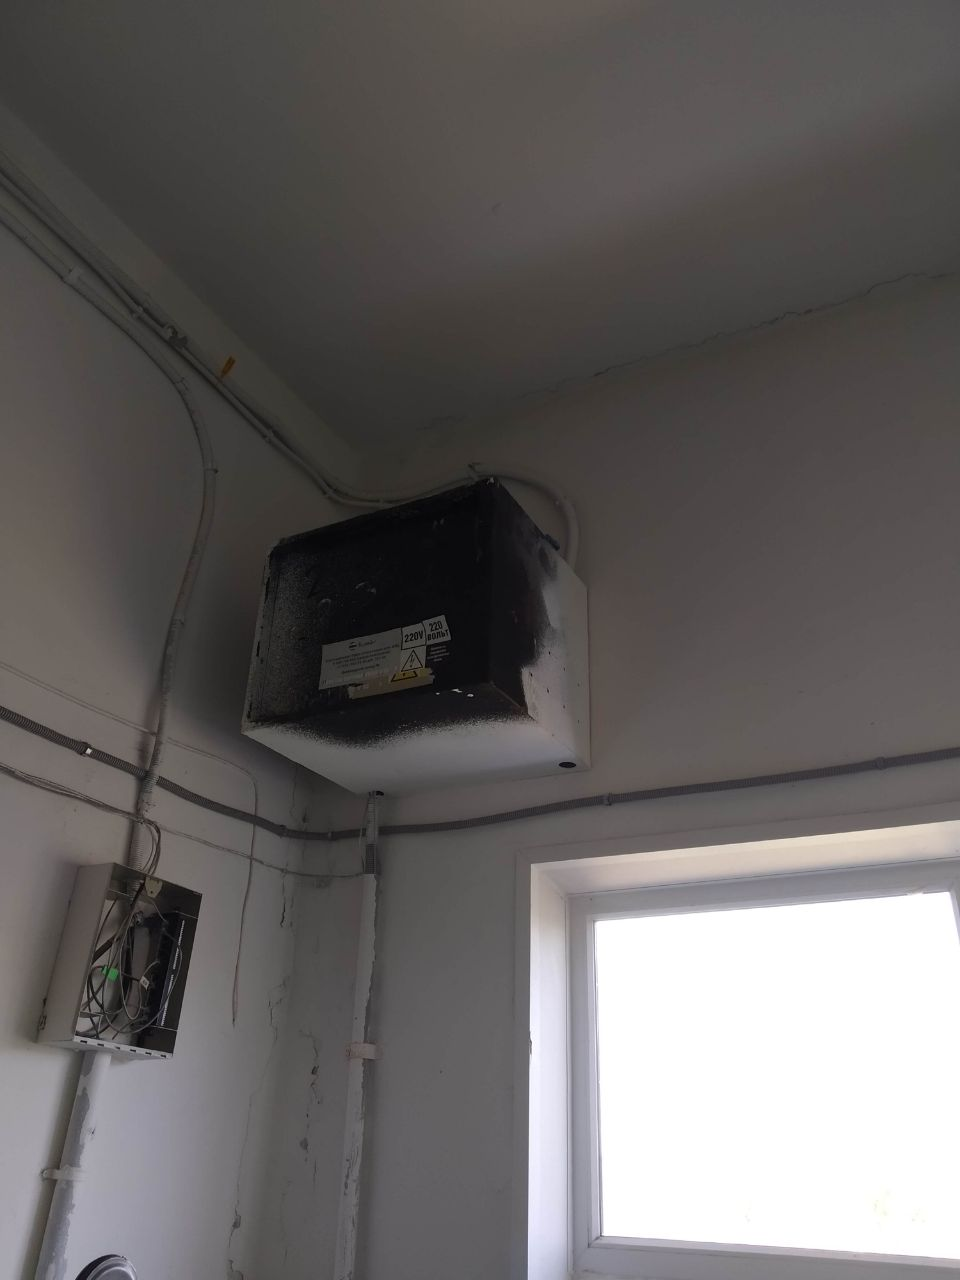shta-9m: (232, 464, 601, 809)
